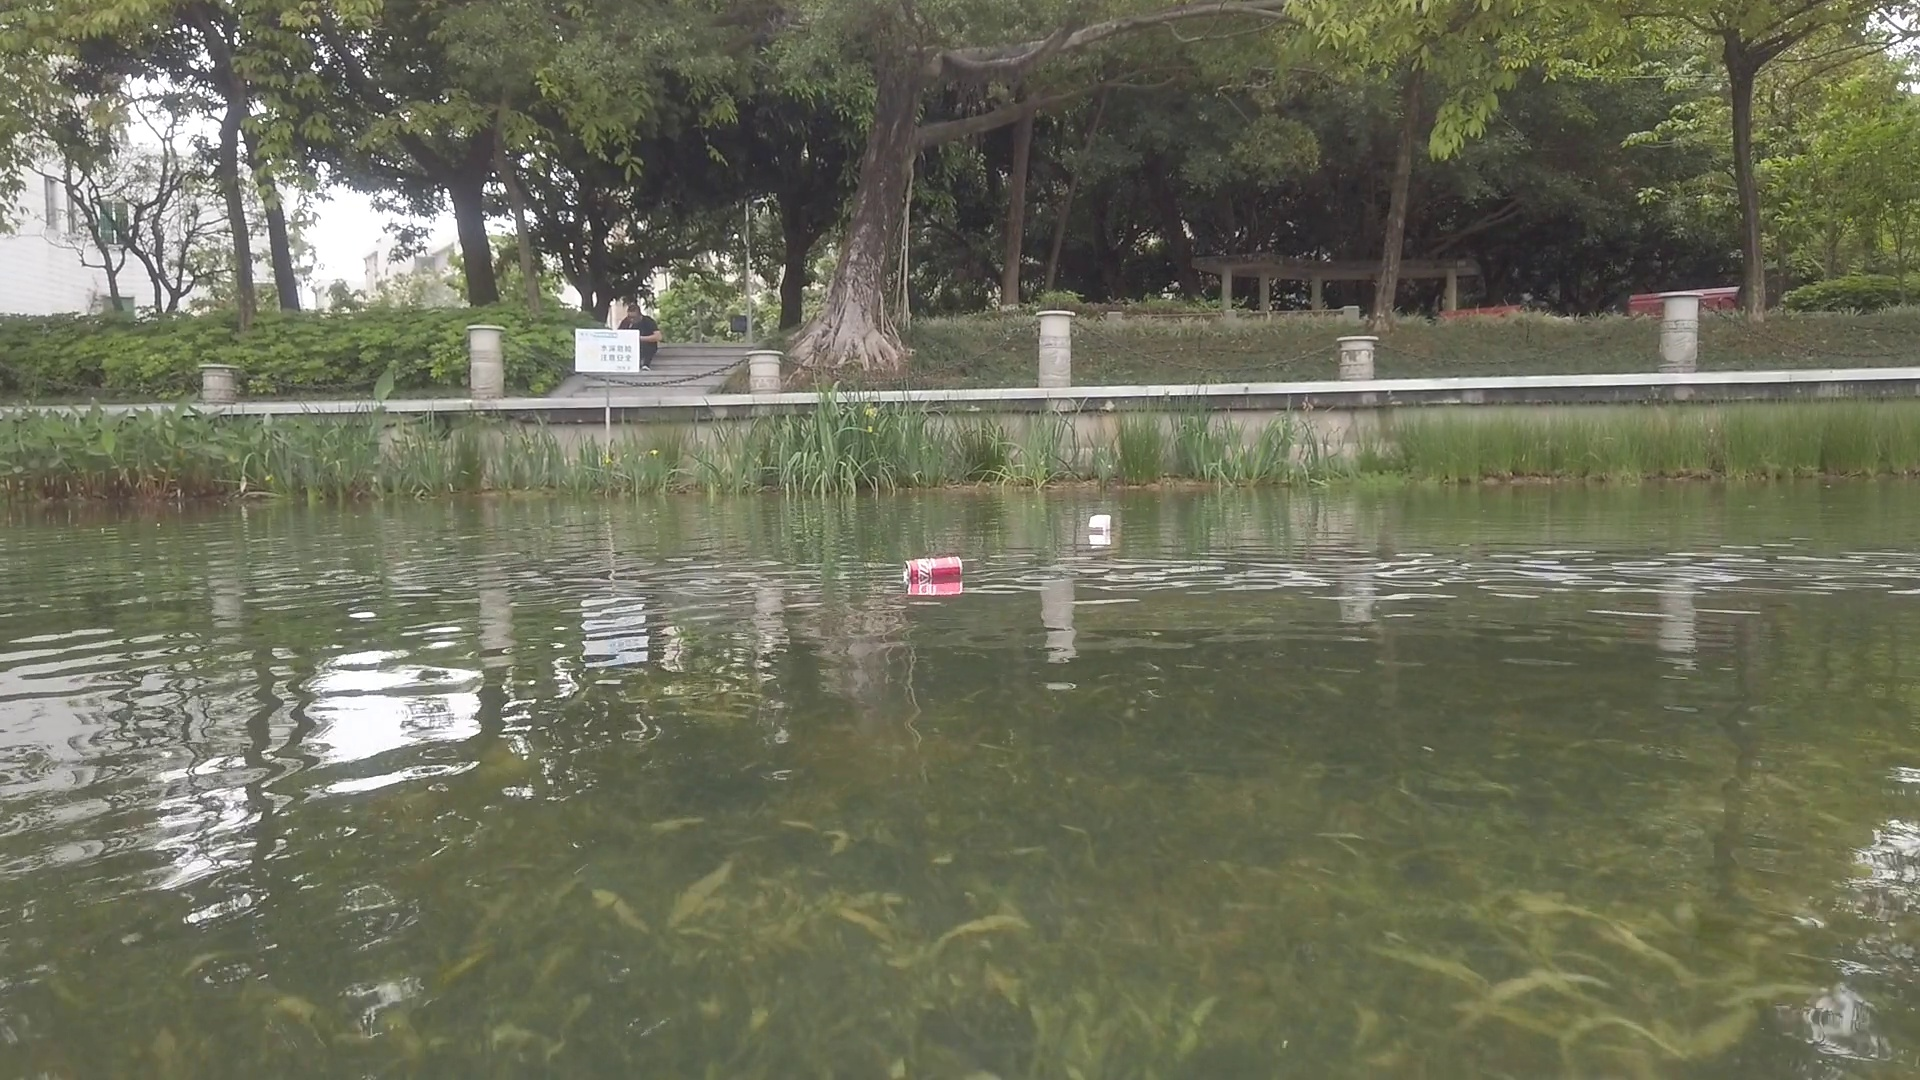bottle: (905, 556, 964, 578)
carton: (1089, 514, 1109, 531)
